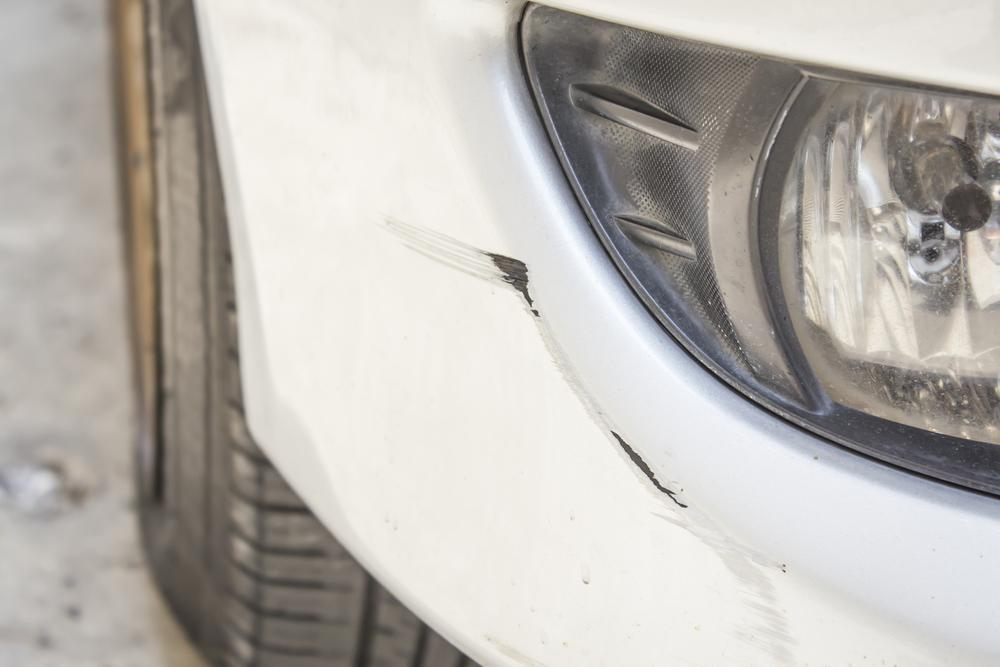scratch: (379, 207, 811, 667)
